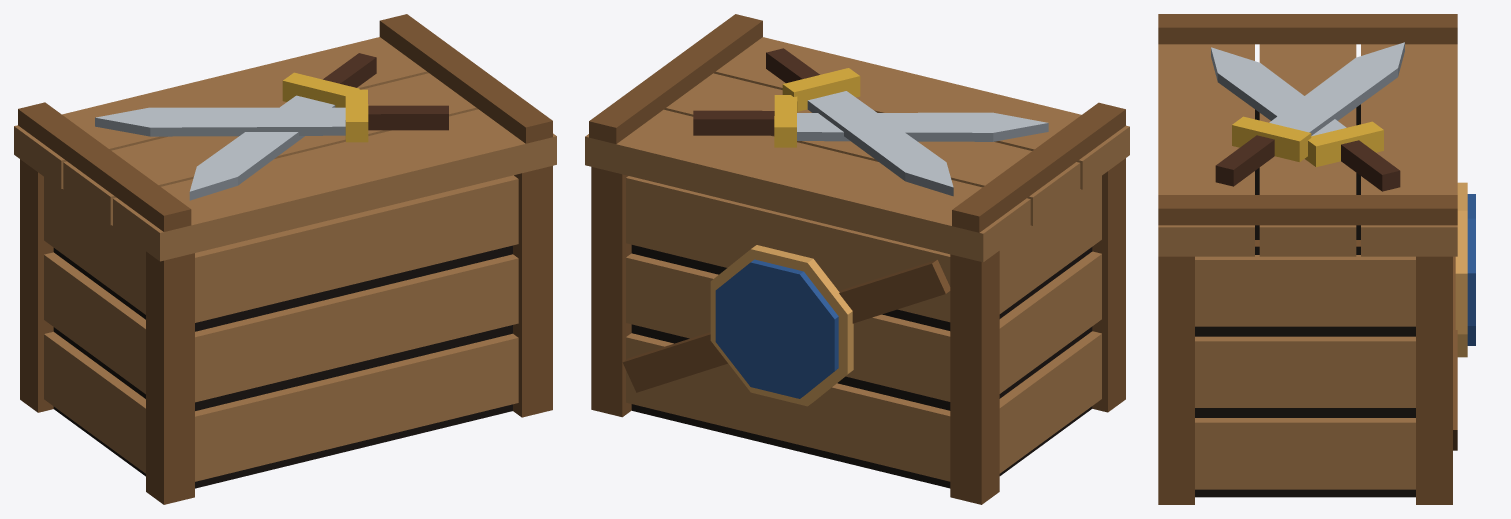
File: PR_ArmoryChest_B.fbx
The picture shows the model from 3 angles, left to right: view 1: azimuth 30°, elevation 25°; view 2: azimuth 150°, elevation 25°; view 3: azimuth 270°, elevation 25°; orthographic projection. The views are drawn at different scales.
Parts seen in each view (by area): view 1: Body, Lid; view 2: Body, Lid; view 3: Body, Lid.
Boxes of the visible parts, x1=… form: Body: x1=20, y1=159, x2=552, y2=504; Lid: x1=14, y1=14, x2=556, y2=261; Body: x1=591, y1=158, x2=1125, y2=504; Lid: x1=585, y1=14, x2=1129, y2=262; Body: x1=1158, y1=104, x2=1475, y2=504; Lid: x1=1158, y1=14, x2=1457, y2=256.
Size of the model in its own units: 1.02 by 0.735 by 0.742.
